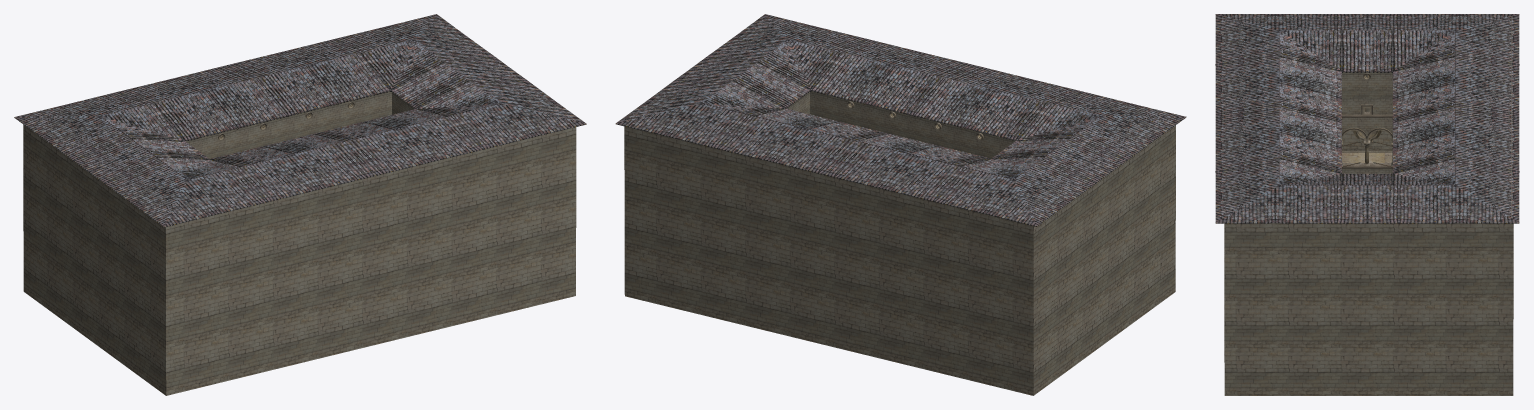
Rendered from sponza.gltf.
The picture shows the model from 3 angles, left to right: view 1: azimuth 30°, elevation 25°; view 2: azimuth 150°, elevation 25°; view 3: azimuth 270°, elevation 25°; orthographic projection.
Size of the model in its own units: 29.77 by 12.45 by 18.31.
